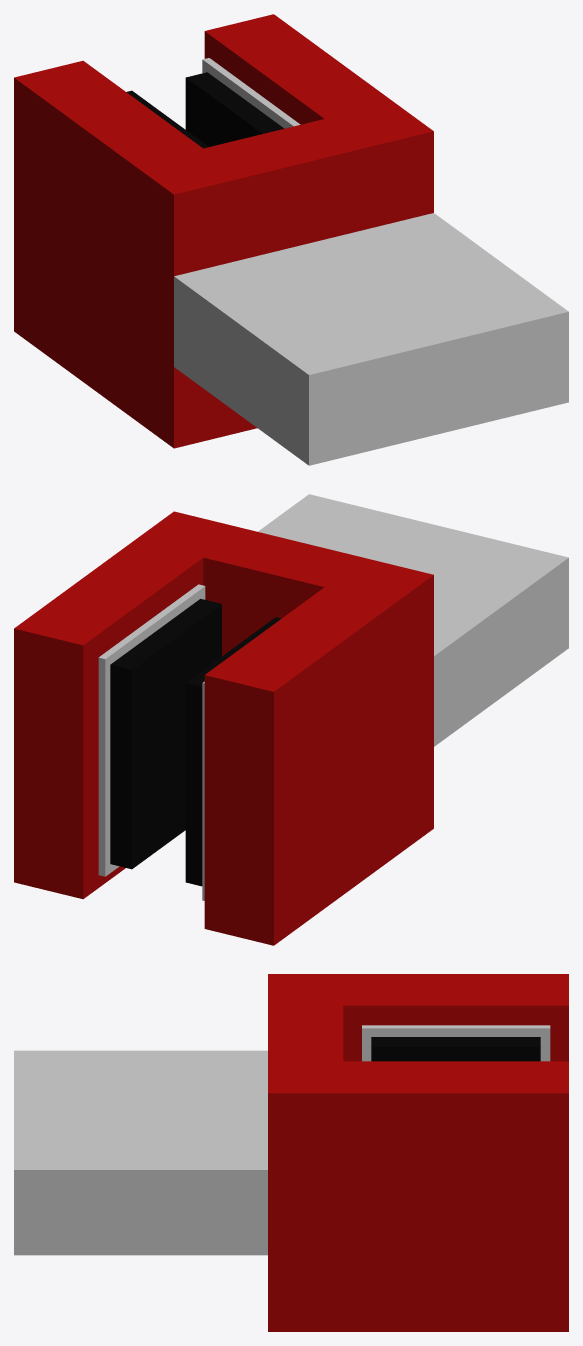
File: brake_caliper_ok.obj
The picture shows the model from 3 angles, top to bottom: view 1: azimuth 30°, elevation 25°; view 2: azimuth 150°, elevation 25°; view 3: azimuth 270°, elevation 25°; orthographic projection. The views are drawn at different scales.
Parts seen in each view (by area): view 1: brake_caliper_ok; view 2: brake_caliper_ok; view 3: brake_caliper_ok.
Boxes of the visible parts, x1=… form: brake_caliper_ok: x1=14, y1=14, x2=568, y2=465; brake_caliper_ok: x1=14, y1=494, x2=568, y2=945; brake_caliper_ok: x1=14, y1=974, x2=568, y2=1331.
Size of the model in its own units: 0.3 by 0.28 by 0.59.
